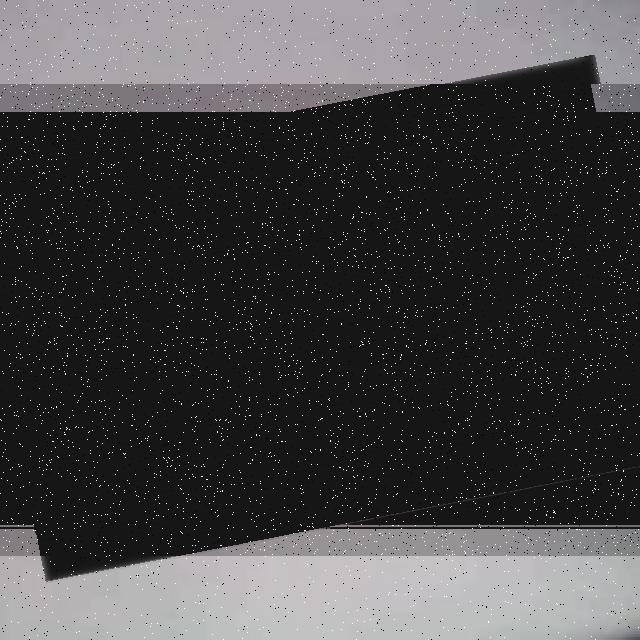dua ribu rupiah: (0, 84, 640, 556)
